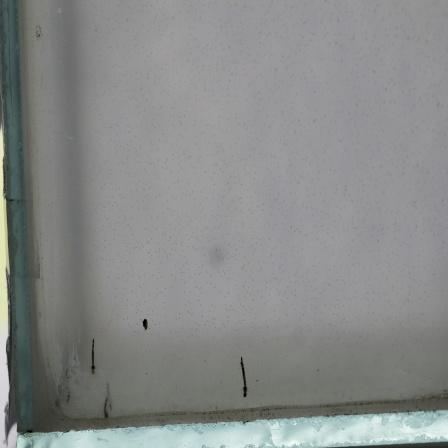Jentik-Nyamuk: (236, 353, 252, 401), (85, 335, 100, 378), (97, 392, 113, 420), (138, 315, 151, 338)
